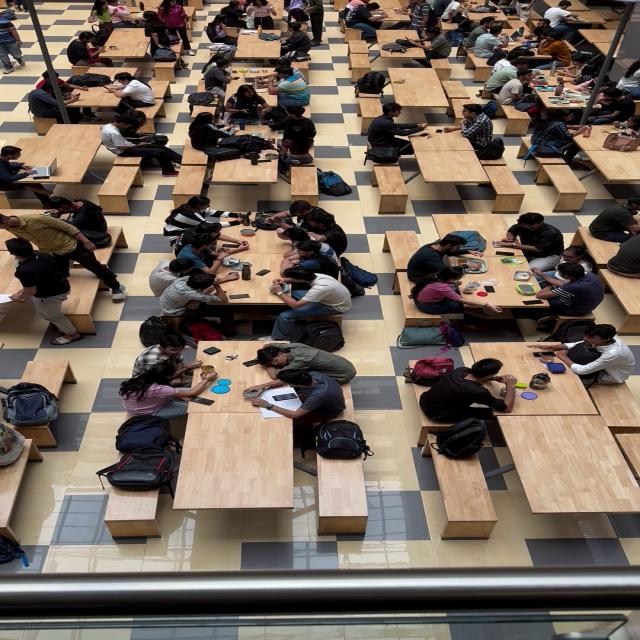Occupied: (447, 298, 617, 380), (470, 349, 606, 417), (6, 239, 115, 316), (191, 356, 318, 414), (420, 361, 517, 424), (521, 336, 638, 386), (117, 365, 218, 419), (255, 370, 348, 428), (209, 254, 307, 306), (100, 116, 184, 174), (307, 306, 382, 370), (254, 343, 358, 388), (567, 128, 640, 192), (214, 217, 318, 257), (269, 269, 354, 317), (415, 269, 501, 315), (408, 235, 485, 286), (3, 133, 96, 175), (531, 263, 605, 314), (164, 196, 252, 238), (99, 448, 183, 492), (389, 22, 464, 70), (135, 332, 208, 381), (160, 271, 240, 315), (496, 213, 565, 263), (170, 231, 246, 275), (34, 72, 98, 124), (47, 184, 107, 236), (576, 227, 628, 285), (189, 113, 249, 159), (428, 418, 490, 461), (528, 84, 596, 123), (151, 12, 195, 69), (116, 415, 180, 454), (313, 421, 374, 461), (452, 104, 500, 154), (274, 108, 318, 160), (100, 30, 156, 70), (590, 202, 640, 246), (582, 88, 637, 128), (0, 148, 46, 195), (278, 231, 338, 267), (75, 58, 158, 84), (202, 280, 264, 314), (226, 86, 276, 128), (108, 74, 158, 114), (263, 202, 325, 234), (244, 62, 306, 92), (496, 71, 540, 112), (406, 28, 454, 65), (409, 130, 485, 153), (288, 320, 347, 348), (68, 32, 112, 69), (319, 165, 358, 204), (346, 2, 386, 40), (407, 357, 457, 387), (274, 25, 312, 63), (204, 60, 240, 100), (538, 33, 576, 70), (472, 26, 512, 60), (544, 2, 585, 33), (341, 258, 377, 293), (364, 7, 416, 31), (408, 0, 446, 32), (520, 18, 556, 47), (222, 135, 275, 154), (208, 15, 240, 46), (140, 317, 170, 349), (242, 0, 274, 30), (431, 0, 465, 28), (447, 231, 488, 254), (317, 171, 353, 197), (90, 0, 119, 32), (530, 142, 569, 162), (356, 72, 388, 96), (475, 138, 507, 162), (76, 230, 114, 250), (365, 147, 403, 165), (172, 234, 200, 258), (110, 2, 138, 26), (254, 214, 291, 232), (70, 74, 113, 88), (204, 148, 244, 163), (491, 0, 524, 18), (237, 66, 279, 80), (264, 110, 288, 129), (283, 152, 315, 166), (188, 93, 218, 107), (138, 134, 170, 147), (515, 98, 541, 113), (155, 48, 178, 63), (217, 48, 238, 63), (427, 48, 451, 61), (0, 10, 19, 26), (271, 58, 296, 70), (286, 51, 311, 63), (383, 43, 410, 54), (487, 22, 505, 36), (208, 44, 236, 53), (574, 75, 596, 86), (470, 6, 496, 14), (260, 33, 282, 42), (220, 36, 238, 47)
Unoccupied: (497, 415, 639, 516), (172, 412, 294, 514), (432, 460, 495, 548), (412, 151, 496, 209), (316, 460, 368, 536), (102, 484, 164, 541), (583, 367, 639, 427), (389, 70, 454, 120), (211, 154, 282, 196), (433, 215, 520, 243), (536, 164, 590, 209), (444, 204, 522, 234), (482, 167, 530, 211), (97, 164, 145, 208), (386, 232, 426, 280), (609, 428, 640, 486), (20, 360, 77, 391), (374, 166, 410, 212), (237, 32, 284, 62), (174, 165, 212, 200), (290, 169, 320, 204), (358, 98, 386, 135), (442, 82, 471, 116), (376, 31, 426, 50), (147, 81, 172, 109), (350, 56, 374, 82), (154, 59, 178, 82)
